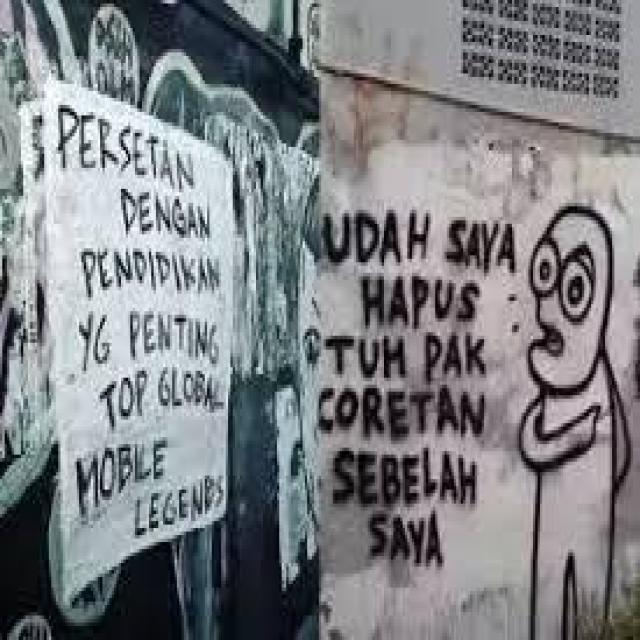nonspitting: (54, 104, 228, 542), (323, 199, 519, 572)
spitting: (516, 203, 630, 639)
